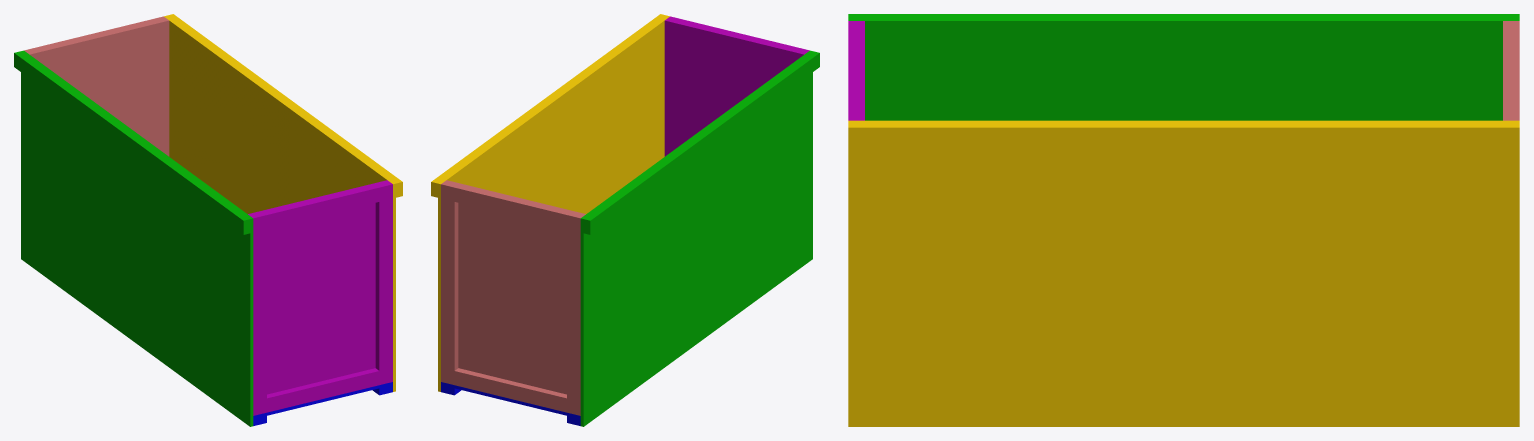
Rendered from result.glb.
3 views of the same model, side by side, from view 1: azimuth 30°, elevation 25°; view 2: azimuth 150°, elevation 25°; view 3: azimuth 270°, elevation 25° (orthographic). The views are drawn at different scales.
Parts seen in each view (by area): view 1: e370ec0a-d9e0-4a52-acec-2837b8e22e16__Box_6, 5f3a3a80-5e87-4147-b298-b9612f05cb6f__undefined, 40c5fd5a-0d7c-4aef-9832-edc08d316396__Box_3, f5d97796-1e49-4cd8-ae38-e6073be8ad1e__undefined, d1840958-afa0-4800-9daa-90e7d68db528__Box_7, 1246bebb-c193-4ee6-9ced-5ba0b72e3144__undefined, a8825913-7509-4b58-80c8-55c2e6c4e79c__Box_4, 6aed3653-5869-4b9a-929a-9c33109a9ee6__undefined, f2316d68-1c5e-43fa-9e15-04ad8cb6b508__Box_5, 55d616f9-df91-4d91-a996-d8ca2e3ccadb__undefined, 9f917c8a-4766-40fa-9928-e3aaa02d6b8e__Box, c9731357-32fa-4834-93e3-b0f3d5010085__undefined; view 2: e370ec0a-d9e0-4a52-acec-2837b8e22e16__Box_6, 5f3a3a80-5e87-4147-b298-b9612f05cb6f__undefined, f5d97796-1e49-4cd8-ae38-e6073be8ad1e__undefined, 40c5fd5a-0d7c-4aef-9832-edc08d316396__Box_3, d1840958-afa0-4800-9daa-90e7d68db528__Box_7, 018efaf1-5430-4df8-a23f-07fbcc5fb189__undefined, 76732bb7-d962-40ab-87ff-0becb92424fa__undefined, c9731357-32fa-4834-93e3-b0f3d5010085__undefined, 11b02d70-96c1-4227-a436-973ce59c245f__undefined, 55d616f9-df91-4d91-a996-d8ca2e3ccadb__undefined, 9f917c8a-4766-40fa-9928-e3aaa02d6b8e__Box, 6aed3653-5869-4b9a-929a-9c33109a9ee6__undefined; view 3: 5f3a3a80-5e87-4147-b298-b9612f05cb6f__undefined, e370ec0a-d9e0-4a52-acec-2837b8e22e16__Box_6, 55d616f9-df91-4d91-a996-d8ca2e3ccadb__undefined, d1840958-afa0-4800-9daa-90e7d68db528__Box_7, 6aed3653-5869-4b9a-929a-9c33109a9ee6__undefined, c9731357-32fa-4834-93e3-b0f3d5010085__undefined.
Boxes of the visible parts, x1,y1,x2,y2 form: e370ec0a-d9e0-4a52-acec-2837b8e22e16__Box_6: [21, 50, 253, 426]; 5f3a3a80-5e87-4147-b298-b9612f05cb6f__undefined: [164, 15, 395, 391]; 40c5fd5a-0d7c-4aef-9832-edc08d316396__Box_3: [248, 180, 388, 394]; f5d97796-1e49-4cd8-ae38-e6073be8ad1e__undefined: [28, 19, 169, 156]; d1840958-afa0-4800-9daa-90e7d68db528__Box_7: [14, 51, 250, 234]; 1246bebb-c193-4ee6-9ced-5ba0b72e3144__undefined: [375, 181, 392, 384]; a8825913-7509-4b58-80c8-55c2e6c4e79c__Box_4: [249, 212, 266, 415]; 6aed3653-5869-4b9a-929a-9c33109a9ee6__undefined: [263, 184, 379, 228]; f2316d68-1c5e-43fa-9e15-04ad8cb6b508__Box_5: [267, 368, 379, 412]; 55d616f9-df91-4d91-a996-d8ca2e3ccadb__undefined: [167, 14, 402, 197]; 9f917c8a-4766-40fa-9928-e3aaa02d6b8e__Box: [253, 382, 392, 418]; c9731357-32fa-4834-93e3-b0f3d5010085__undefined: [38, 20, 153, 49]; e370ec0a-d9e0-4a52-acec-2837b8e22e16__Box_6: [580, 50, 812, 426]; 5f3a3a80-5e87-4147-b298-b9612f05cb6f__undefined: [438, 15, 669, 391]; f5d97796-1e49-4cd8-ae38-e6073be8ad1e__undefined: [445, 180, 585, 394]; 40c5fd5a-0d7c-4aef-9832-edc08d316396__Box_3: [664, 19, 805, 156]; d1840958-afa0-4800-9daa-90e7d68db528__Box_7: [583, 51, 819, 234]; 018efaf1-5430-4df8-a23f-07fbcc5fb189__undefined: [441, 181, 458, 384]; 76732bb7-d962-40ab-87ff-0becb92424fa__undefined: [567, 212, 584, 415]; c9731357-32fa-4834-93e3-b0f3d5010085__undefined: [454, 184, 570, 228]; 11b02d70-96c1-4227-a436-973ce59c245f__undefined: [454, 368, 566, 412]; 55d616f9-df91-4d91-a996-d8ca2e3ccadb__undefined: [431, 14, 666, 197]; 9f917c8a-4766-40fa-9928-e3aaa02d6b8e__Box: [441, 382, 580, 418]; 6aed3653-5869-4b9a-929a-9c33109a9ee6__undefined: [680, 20, 795, 49]; 5f3a3a80-5e87-4147-b298-b9612f05cb6f__undefined: [848, 120, 1519, 426]; e370ec0a-d9e0-4a52-acec-2837b8e22e16__Box_6: [848, 19, 1519, 120]; 55d616f9-df91-4d91-a996-d8ca2e3ccadb__undefined: [848, 123, 1519, 148]; d1840958-afa0-4800-9daa-90e7d68db528__Box_7: [848, 14, 1519, 18]; 6aed3653-5869-4b9a-929a-9c33109a9ee6__undefined: [848, 30, 859, 110]; c9731357-32fa-4834-93e3-b0f3d5010085__undefined: [1508, 30, 1519, 110].
Bounding box in the file's own units: 422 × 526 × 1052.
